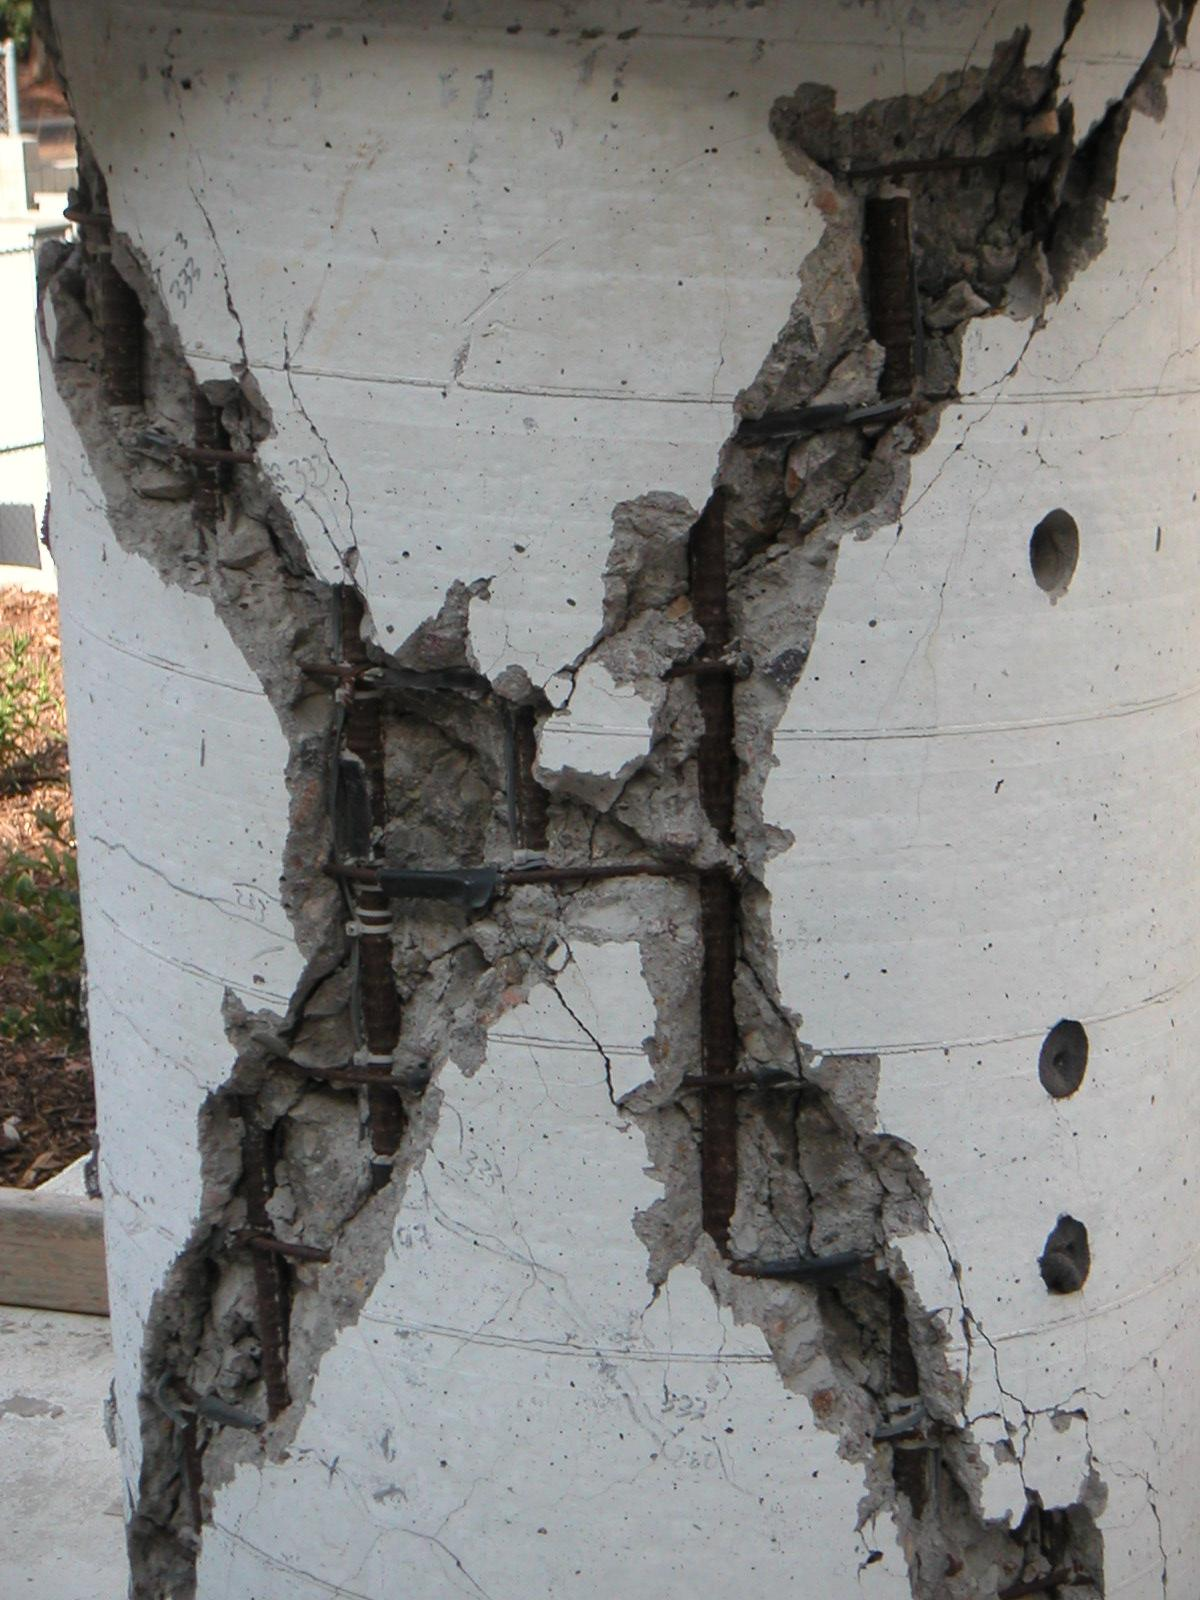exposed_rebar: (321, 600, 406, 1177), (234, 1094, 328, 1417), (669, 490, 737, 844), (328, 863, 697, 910), (875, 1281, 938, 1519), (700, 866, 737, 1250), (866, 184, 919, 401), (175, 394, 253, 525), (735, 397, 919, 443), (100, 256, 144, 406), (507, 707, 550, 850), (729, 1250, 875, 1284), (175, 1381, 262, 1430)
spalling: (47, 0, 1194, 1600)
